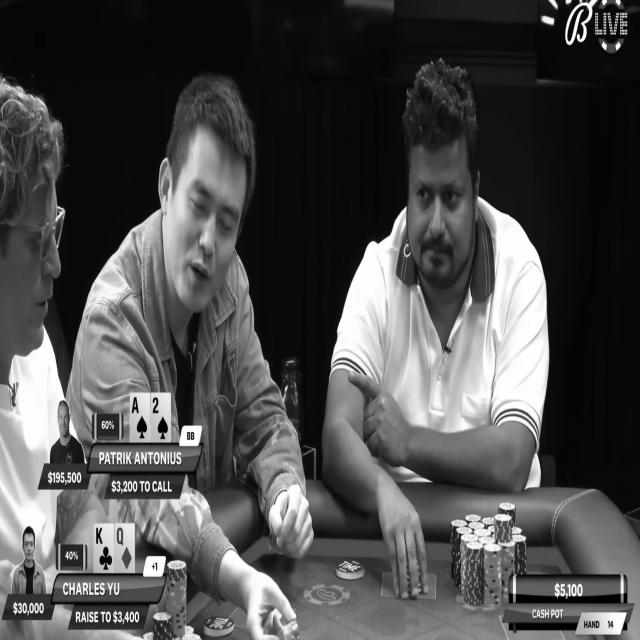2S: (151, 394, 170, 442)
AS: (130, 393, 150, 442)
KC: (95, 525, 114, 572)
QD: (116, 523, 134, 573)
